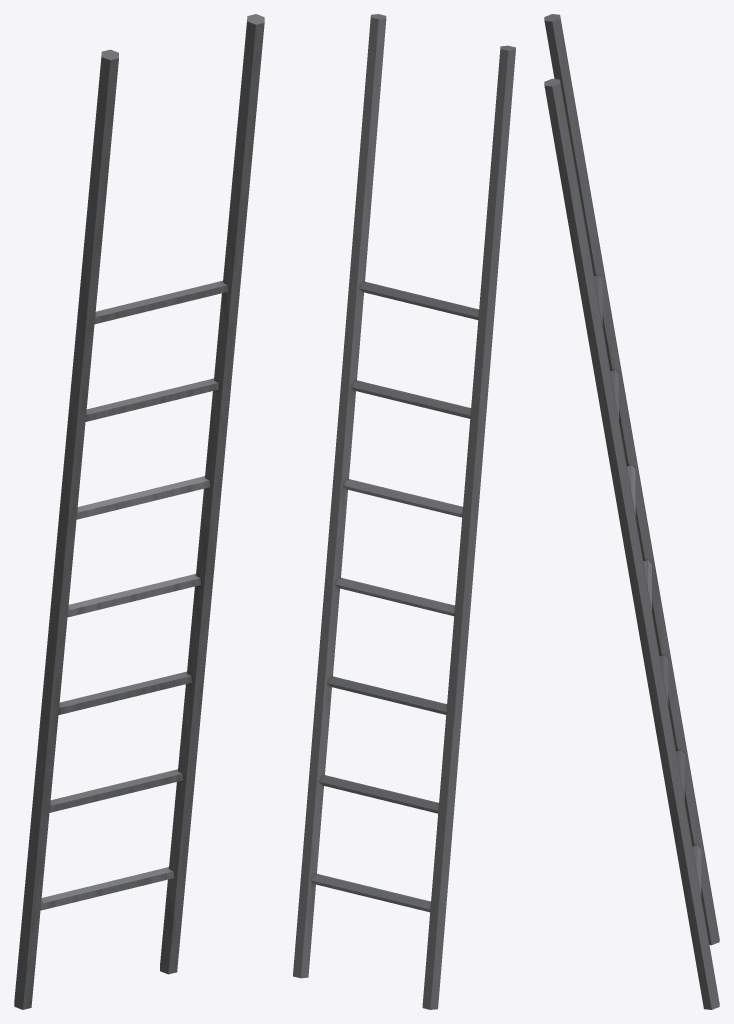
The model's file is nodexeus-set-ladder.glb.
3 views of the same model, side by side, from view 1: azimuth 30°, elevation 25°; view 2: azimuth 150°, elevation 25°; view 3: azimuth 270°, elevation 25° (orthographic). The views are drawn at different scales.
Parts seen in each view (by area): view 1: set-ladder; view 2: set-ladder; view 3: set-ladder.
Boxes of the visible parts, x1,y1,x2,y2 form: set-ladder: (14, 14, 264, 1009); set-ladder: (293, 14, 515, 1009); set-ladder: (544, 14, 719, 1009).
Size of the model in its own units: 0.47 by 2.8 by 0.4801.
Materials: 1 (1 with a texture image).
